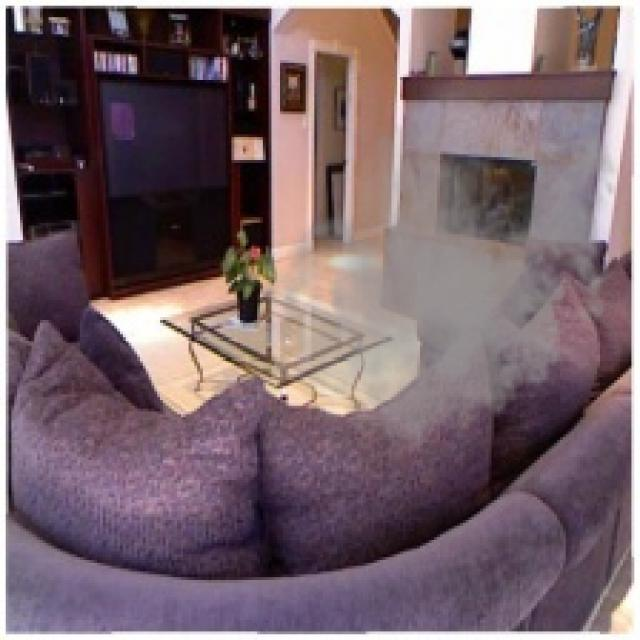smoke: (257, 66, 629, 468)
